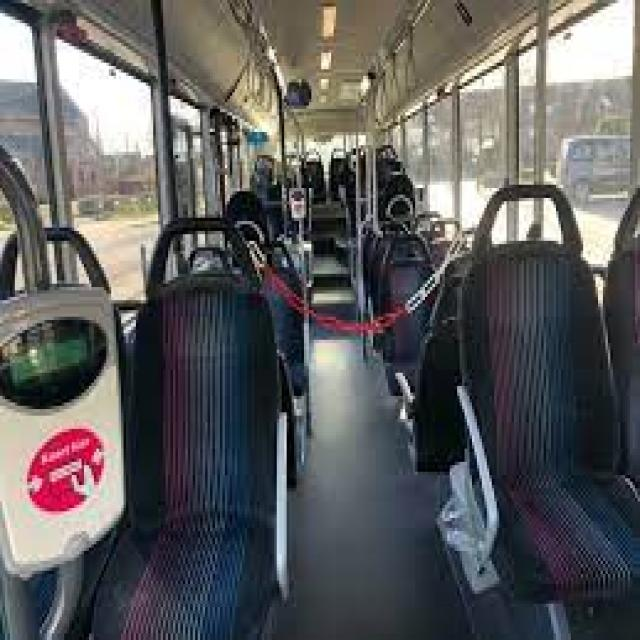empty-seat-frontal: (90, 216, 290, 640), (438, 184, 640, 602)
